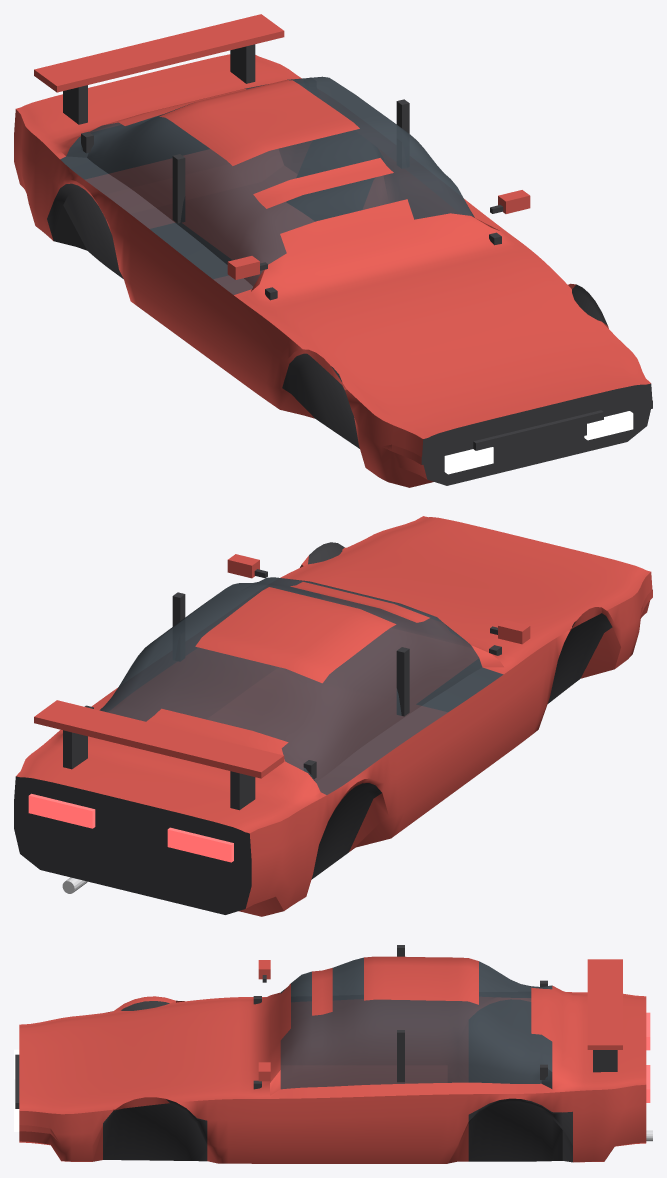
Rendered from sedan.glb.
3 views of the same model, one above another, from view 1: azimuth 30°, elevation 25°; view 2: azimuth 150°, elevation 25°; view 3: azimuth 270°, elevation 25° (orthographic). The views are drawn at different scales.
Parts seen in each view (by area): view 1: Body, Wing, Grille, HeadLamp, BPillar.001, HeadLamp.001, WingStay.001, WingStay; view 2: Body, Wing, TailLamp.001, TailLamp, BPillar.001, WingStay, WingStay.001, Mirror, Mirror.001, BPillar; view 3: Body, Wing, WingStay.001, BPillar.
Boxes of the visible parts, x1,y1,x2,y2 form: Body: (14, 54, 652, 487); Wing: (34, 14, 284, 92); Grille: (473, 410, 603, 457); HeadLamp: (444, 447, 493, 474); BPillar.001: (172, 154, 185, 223); HeadLamp.001: (584, 411, 633, 440); WingStay.001: (230, 44, 255, 83); WingStay: (63, 85, 87, 124); Body: (14, 516, 652, 916); Wing: (34, 700, 284, 778); TailLamp.001: (28, 793, 95, 828); TailLamp: (167, 827, 233, 862); BPillar.001: (396, 647, 409, 716); WingStay: (230, 771, 255, 810); WingStay.001: (63, 730, 87, 769); Mirror: (498, 620, 530, 644); Mirror.001: (227, 554, 259, 578); BPillar: (172, 592, 185, 660); Body: (19, 956, 646, 1163); Wing: (587, 959, 622, 1049); WingStay.001: (593, 1050, 617, 1072); BPillar: (397, 1030, 404, 1082).
Size of the model in its own units: 1.93 by 1.14 by 4.69.
